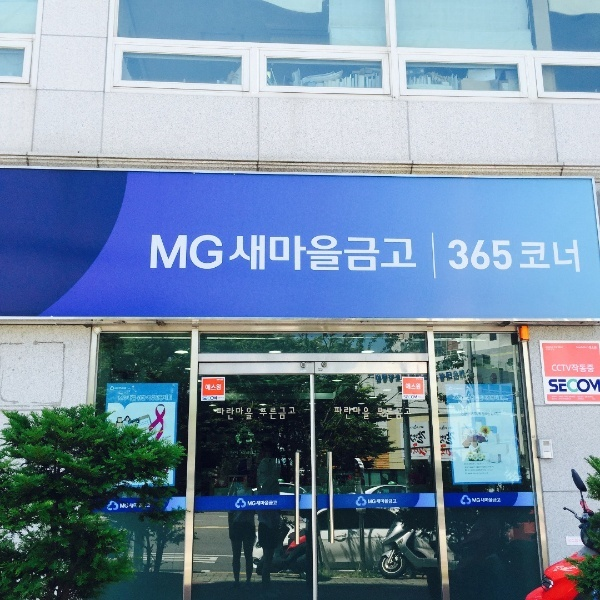text: (161, 231, 176, 278), (177, 231, 192, 278), (193, 231, 208, 278), (209, 231, 224, 278), (241, 231, 256, 276), (257, 231, 272, 276), (273, 231, 288, 276), (289, 231, 304, 276), (305, 231, 320, 276), (321, 231, 336, 276), (337, 231, 352, 276), (353, 231, 368, 276), (369, 231, 384, 276), (385, 231, 400, 276), (401, 231, 416, 276), (449, 237, 464, 276), (465, 237, 480, 276), (481, 237, 496, 276), (497, 237, 512, 276), (513, 237, 528, 276), (529, 237, 544, 276), (545, 237, 560, 276), (561, 237, 576, 276), (149, 231, 160, 278), (229, 231, 240, 276), (577, 237, 584, 276), (337, 406, 352, 422), (353, 406, 368, 422), (561, 378, 576, 394), (577, 378, 592, 394), (225, 407, 240, 422), (273, 407, 288, 422), (385, 407, 400, 421), (241, 407, 254, 422), (259, 407, 272, 422), (548, 378, 560, 394), (401, 407, 412, 421), (577, 363, 592, 373), (129, 394, 144, 403), (145, 394, 160, 403), (593, 378, 600, 394), (561, 363, 572, 373), (161, 394, 173, 403), (217, 407, 224, 422), (289, 407, 296, 422), (257, 500, 272, 507), (481, 497, 496, 504), (209, 384, 222, 392), (377, 407, 384, 421), (417, 231, 419, 276), (406, 382, 416, 391), (552, 363, 560, 373), (385, 498, 398, 504), (119, 503, 128, 511), (118, 396, 128, 402), (369, 498, 377, 505), (472, 497, 480, 504), (247, 501, 256, 507), (209, 396, 217, 402), (225, 231, 226, 278), (417, 382, 422, 391), (377, 498, 384, 504), (572, 363, 576, 373), (447, 237, 448, 276), (273, 500, 278, 507), (409, 395, 416, 400), (334, 406, 336, 422), (369, 406, 371, 422), (203, 396, 208, 402), (497, 497, 501, 504), (205, 384, 208, 392), (593, 363, 594, 373), (127, 394, 128, 403), (417, 395, 418, 400)
